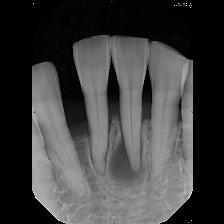apical_lesion: (108, 37, 150, 201)
